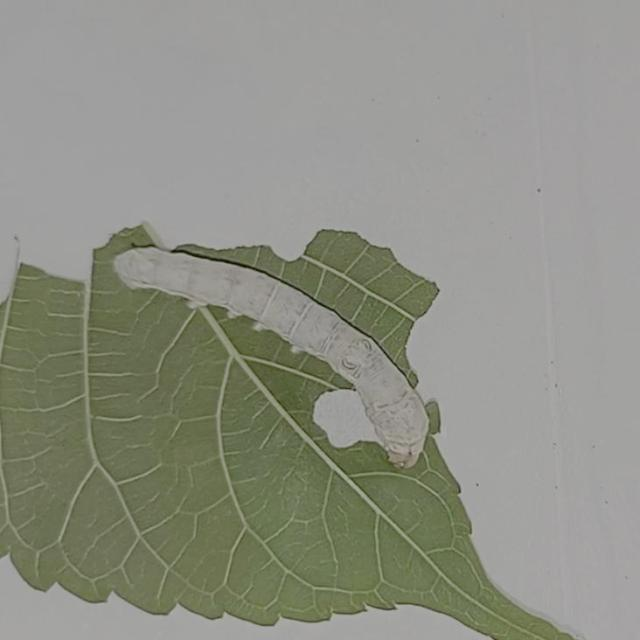Healthy: (95, 227, 444, 483)
